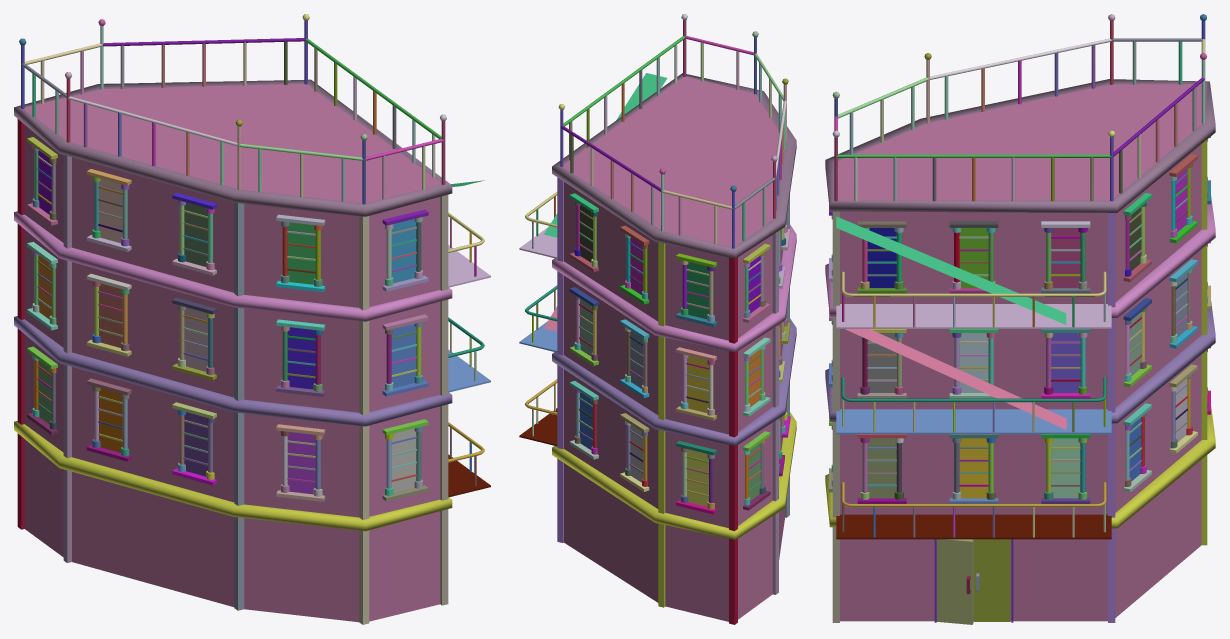
Rendered from building1.fbx.
3 renders of one model, left to right at view 1: azimuth 30°, elevation 25°; view 2: azimuth 150°, elevation 25°; view 3: azimuth 270°, elevation 25°, orthographic. The views are drawn at different scales.
Visible parts, largest first — view 1: Building Procedural.001; view 2: Building Procedural.001; view 3: Building Procedural.001.
Boxes of the visible parts, box(x1,y1,x2,y2) form: Building Procedural.001: box(14, 14, 490, 624); Building Procedural.001: box(519, 14, 796, 624); Building Procedural.001: box(825, 14, 1215, 624).
Size of the model in its own units: 934 by 1474 by 1063.
